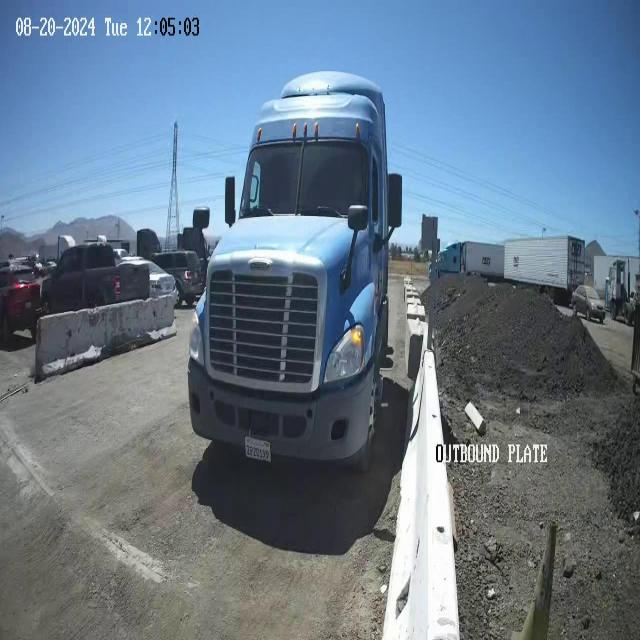TRUCK_OUT: (187, 69, 403, 473)
